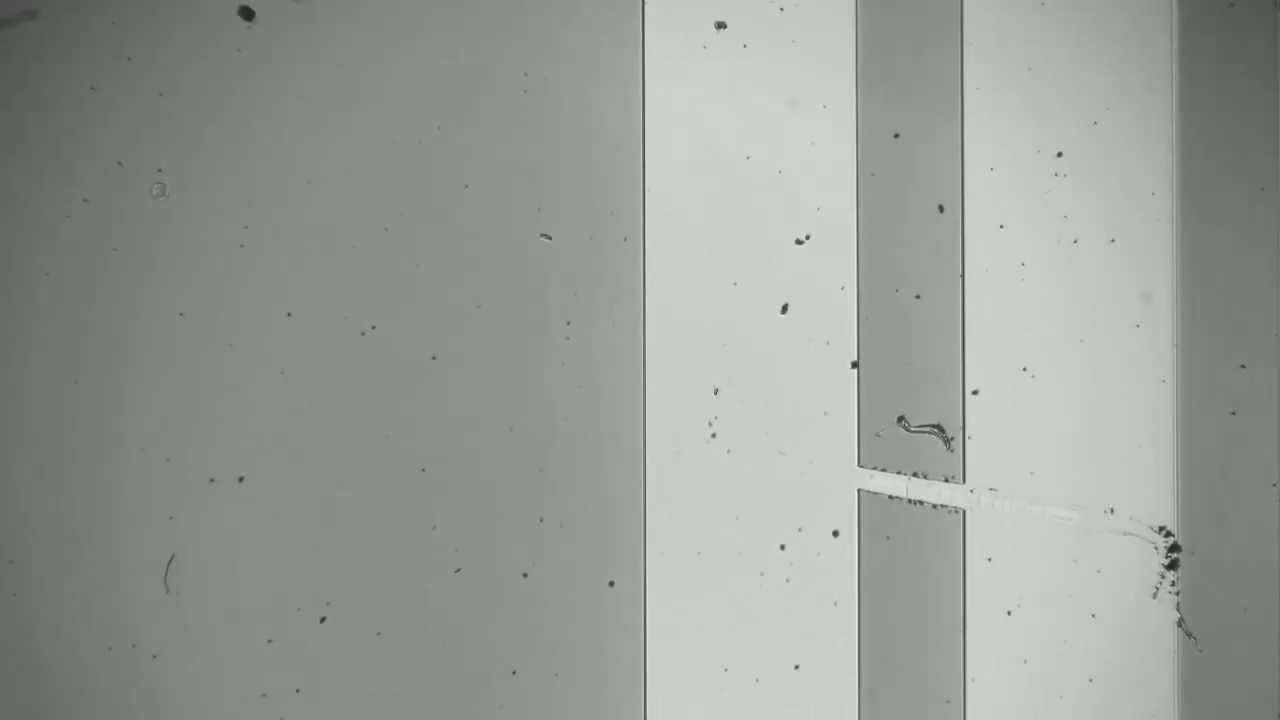Short_circuit: (835, 451, 988, 532)
